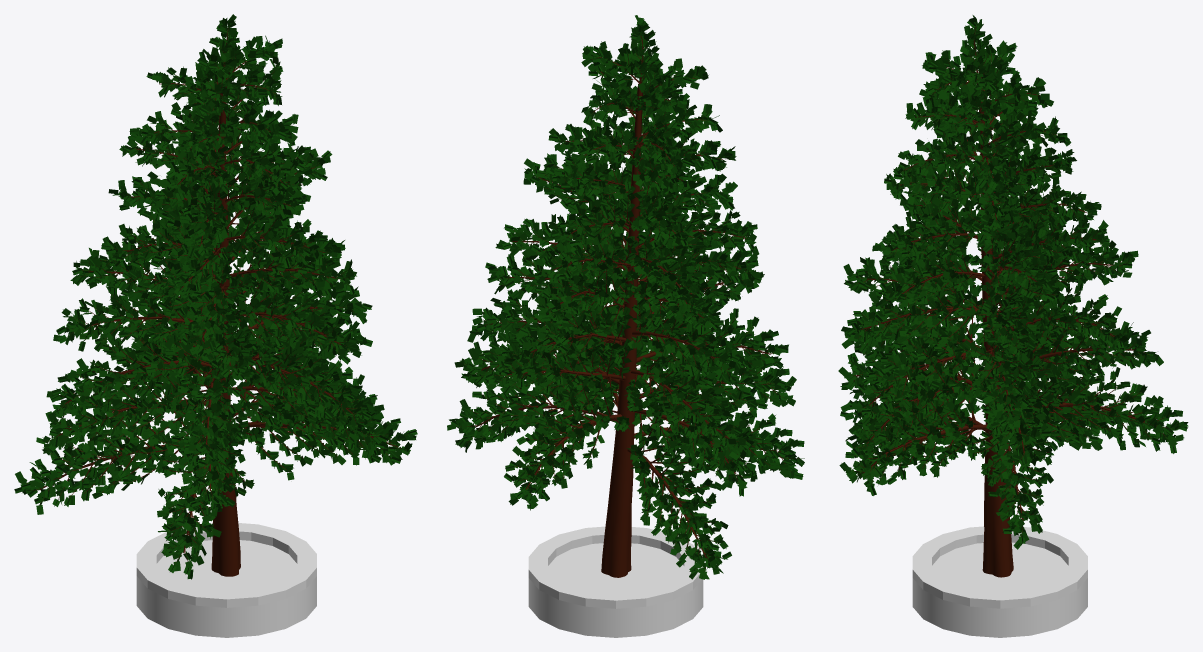
Rendered from Tree.fbx.
3 renders of one model, left to right at view 1: azimuth 30°, elevation 25°; view 2: azimuth 150°, elevation 25°; view 3: azimuth 270°, elevation 25°, orthographic. The views are drawn at different scales.
Parts seen in each view (by area): view 1: Foliage001, Prop001; view 2: Foliage001, Prop001; view 3: Foliage001, Prop001.
Boxes of the visible parts, left/top/right/bottom form: Foliage001: left=14, top=14, right=417, bottom=579; Prop001: left=136, top=523, right=316, bottom=637; Foliage001: left=447, top=15, right=804, bottom=579; Prop001: left=528, top=526, right=703, bottom=637; Foliage001: left=838, top=15, right=1188, bottom=577; Prop001: left=912, top=526, right=1087, bottom=637.
Size of the model in its own units: 2.3 by 3.97 by 2.17.
